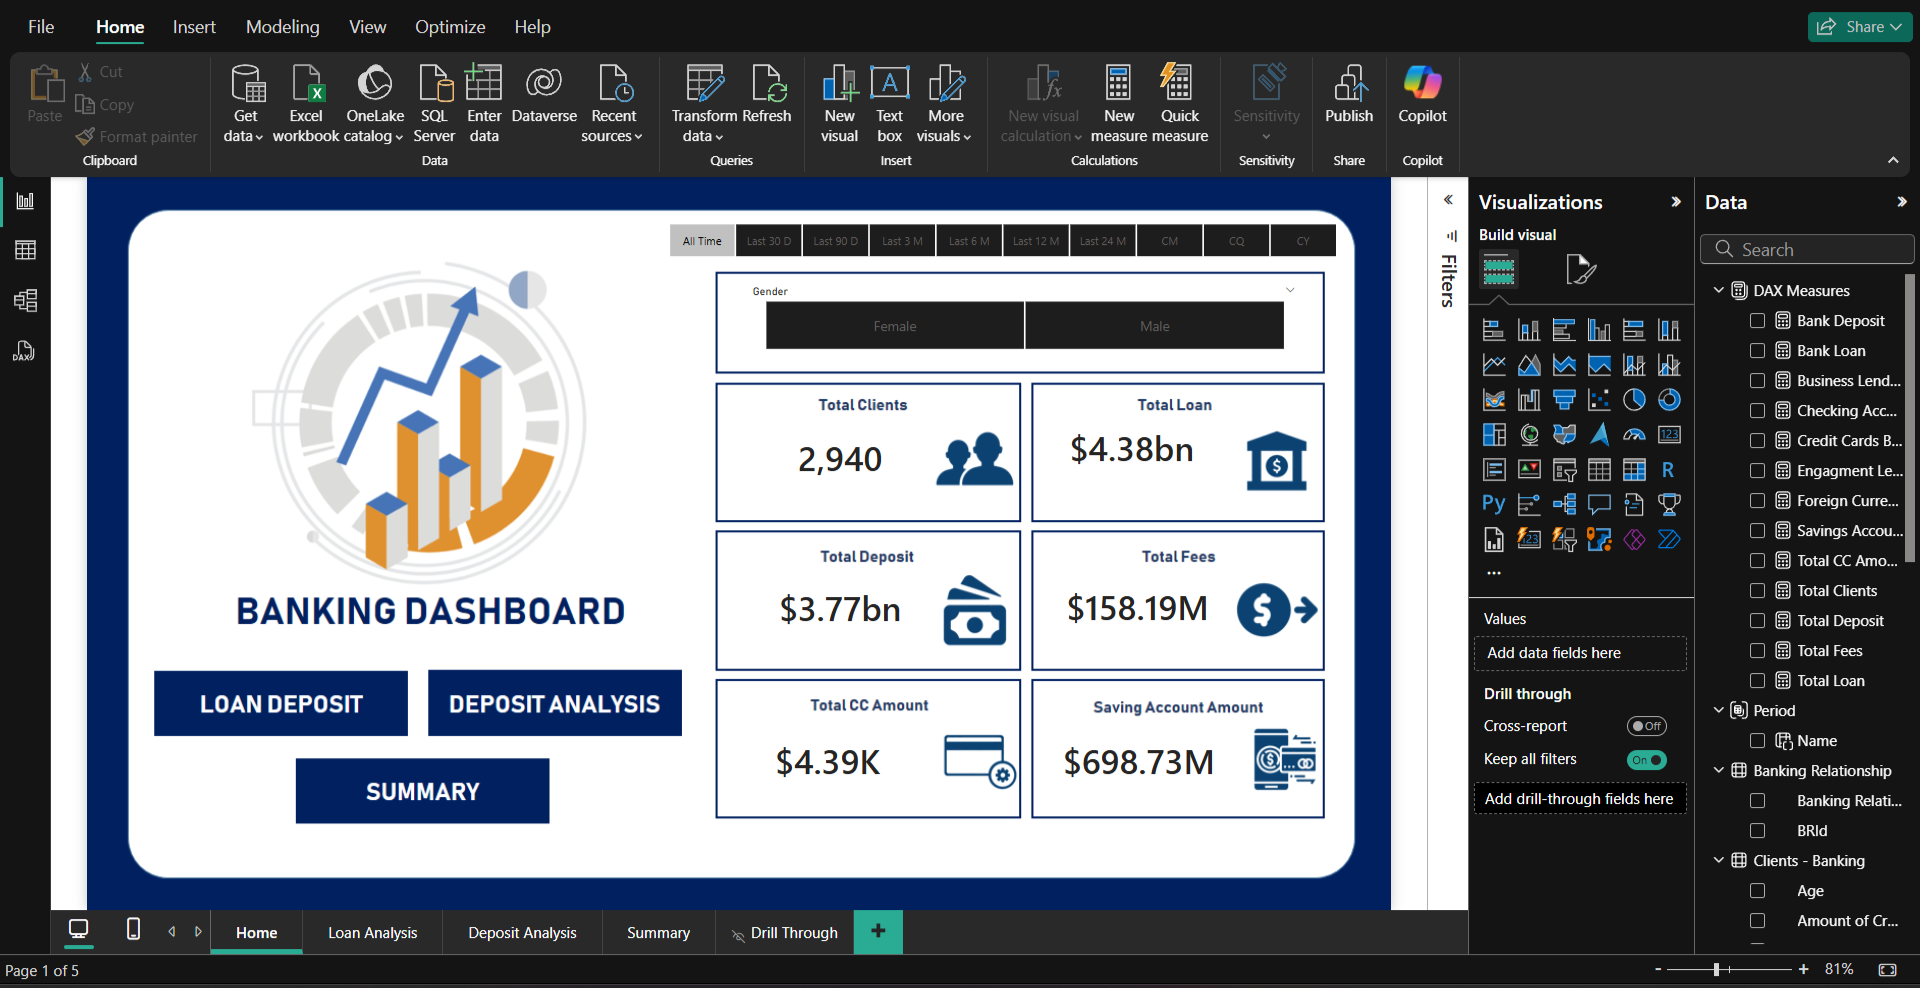

What the dashboard file says about the page in this screenshot:
{"tool":"powerbi","page":{"name":"Home","canvas":[1280,720],"ordinal":0},"visuals":[{"type":"slicer","fields":{"Values":["Gender.Gender"]},"box":[640.3,100.8,558.2,75],"z":0},{"type":"card","fields":{"Values":["DAX Measures.Total Clients"]},"box":[640.3,218.1,198.2,114.9],"z":1000},{"type":"card","fields":{"Values":["DAX Measures.Total Loan"]},"box":[933.4,208.7,184.1,114.9],"z":2000},{"type":"card","fields":{"Values":["DAX Measures.Total Deposit"]},"box":[640.3,374.1,198.2,98.5],"z":3000},{"type":"card","fields":{"Values":["DAX Measures.Total CC Amount"]},"box":[628.5,533.6,198.2,79.7],"z":4000},{"type":"card","fields":{"Values":["DAX Measures.Total Fees"]},"box":[938.1,372.9,185.3,99.7],"z":5000},{"type":"card","fields":{"Values":["DAX Measures.Savings Account"]},"box":[933.4,533.6,198.2,79.7],"z":6000},{"type":"actionButton","box":[63.3,483.1,253.3,65.7],"z":7000},{"type":"actionButton","box":[335.4,485.5,250.9,63.3],"z":8000},{"type":"actionButton","box":[205.2,573.4,255.6,61],"z":9000},{"type":"slicer","fields":{"Values":["Period.Name"]},"box":[546.4,38.7,703.6,45.7],"z":10000}]}

Visuals, with their boxes on the page's 1280x720 design canvas (x1, y1, x2, y2). These are canvas units, not pixel positions in the 1920x988 screenshot, which may show the page scaled, cropped or inside an application window:
slicer - Gender.Gender: rect(640, 101, 1198, 176)
card - DAX Measures.Total Clients: rect(640, 218, 838, 333)
card - DAX Measures.Total Loan: rect(933, 209, 1118, 324)
card - DAX Measures.Total Deposit: rect(640, 374, 838, 473)
card - DAX Measures.Total CC Amount: rect(628, 534, 827, 613)
card - DAX Measures.Total Fees: rect(938, 373, 1123, 473)
card - DAX Measures.Savings Account: rect(933, 534, 1132, 613)
actionButton: rect(63, 483, 317, 549)
actionButton: rect(335, 486, 586, 549)
actionButton: rect(205, 573, 461, 634)
slicer - Period.Name: rect(546, 39, 1250, 84)
